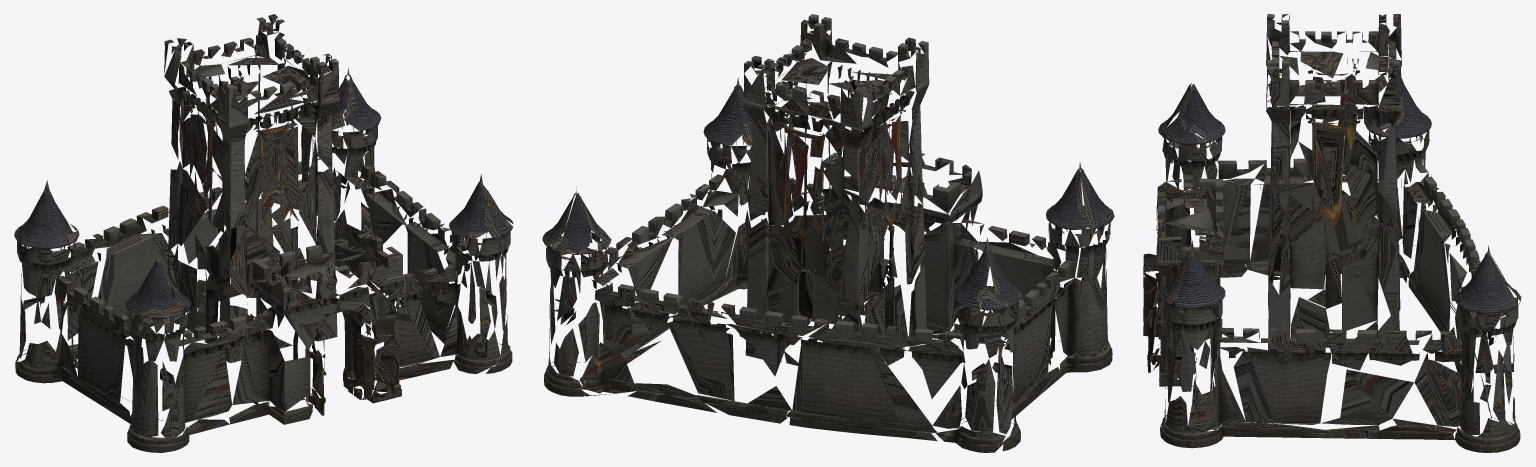
File: bld_castle_a_LOD1.glb
The picture shows the model from 3 angles, left to right: view 1: azimuth 30°, elevation 25°; view 2: azimuth 150°, elevation 25°; view 3: azimuth 270°, elevation 25°; orthographic projection. The views are drawn at different scales.
Parts seen in each view (by area): view 1: geometry_0; view 2: geometry_0; view 3: geometry_0.
Boxes of the visible parts, x1,y1,x2,y2 form: geometry_0: (14, 14, 513, 452); geometry_0: (542, 14, 1114, 452); geometry_0: (1143, 14, 1521, 452).
Size of the model in its own units: 28 by 20 by 21.99.
1 material, 1 textured.
